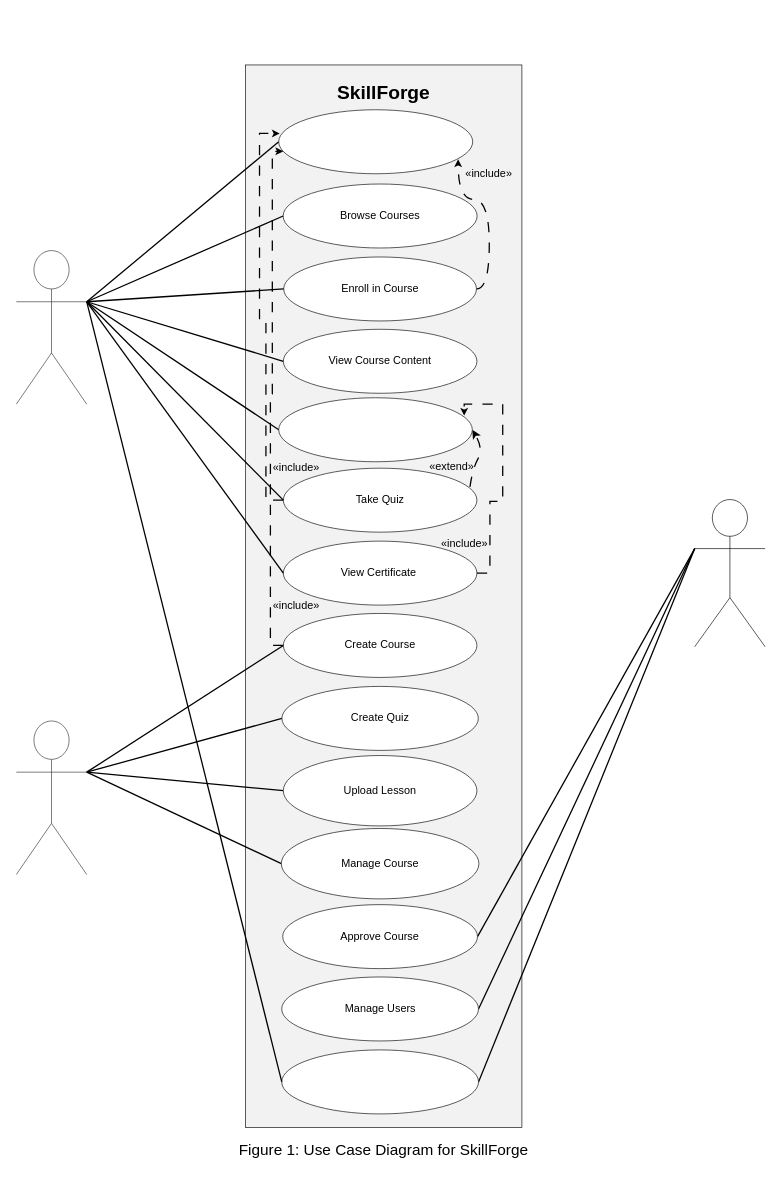
The diagram is 776 pixels wide and 1192 high, and some of its shapes have lost their labels. The centre of each missing label's shape, as x and y in pixels:
"Admin" goes at (x=729, y=573).
"Complete Lesson" goes at (x=375, y=429).
"Instructor" goes at (x=51, y=797).
"Login" goes at (x=375, y=141).
"Student" goes at (x=51, y=327).
"View Analytics" goes at (x=380, y=1081).
